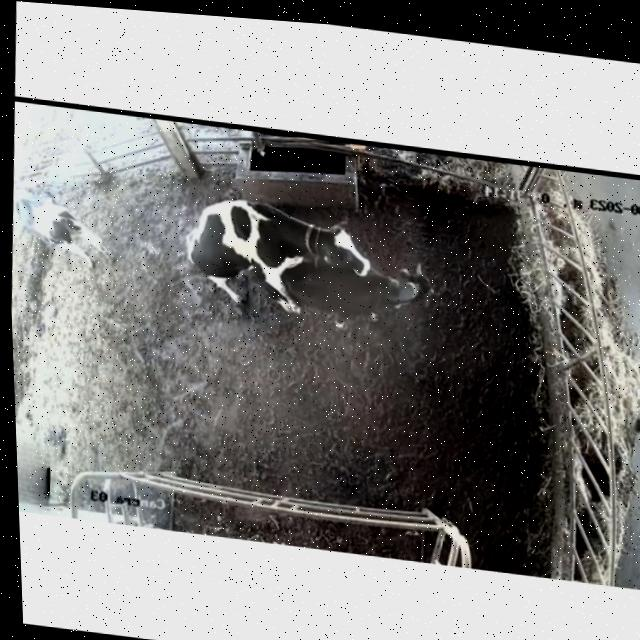ride: (158, 188, 374, 339)
stand: (267, 241, 441, 344), (9, 180, 133, 287)
